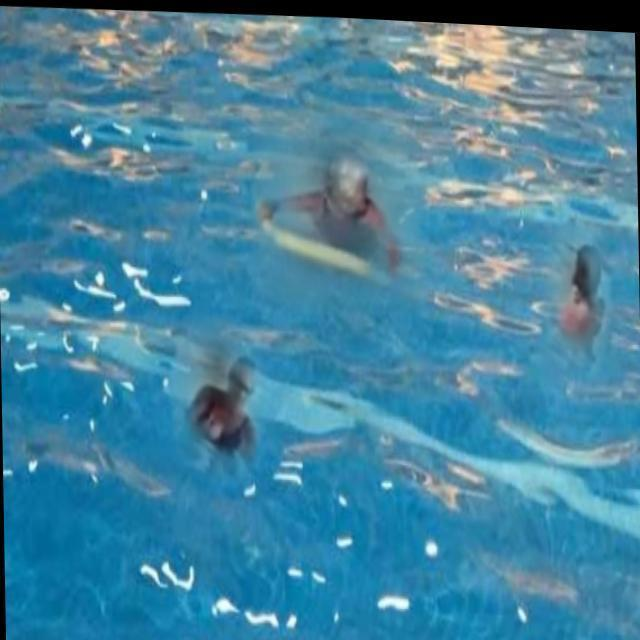swimming: (256, 146, 404, 271), (182, 334, 265, 464), (547, 240, 623, 359)
